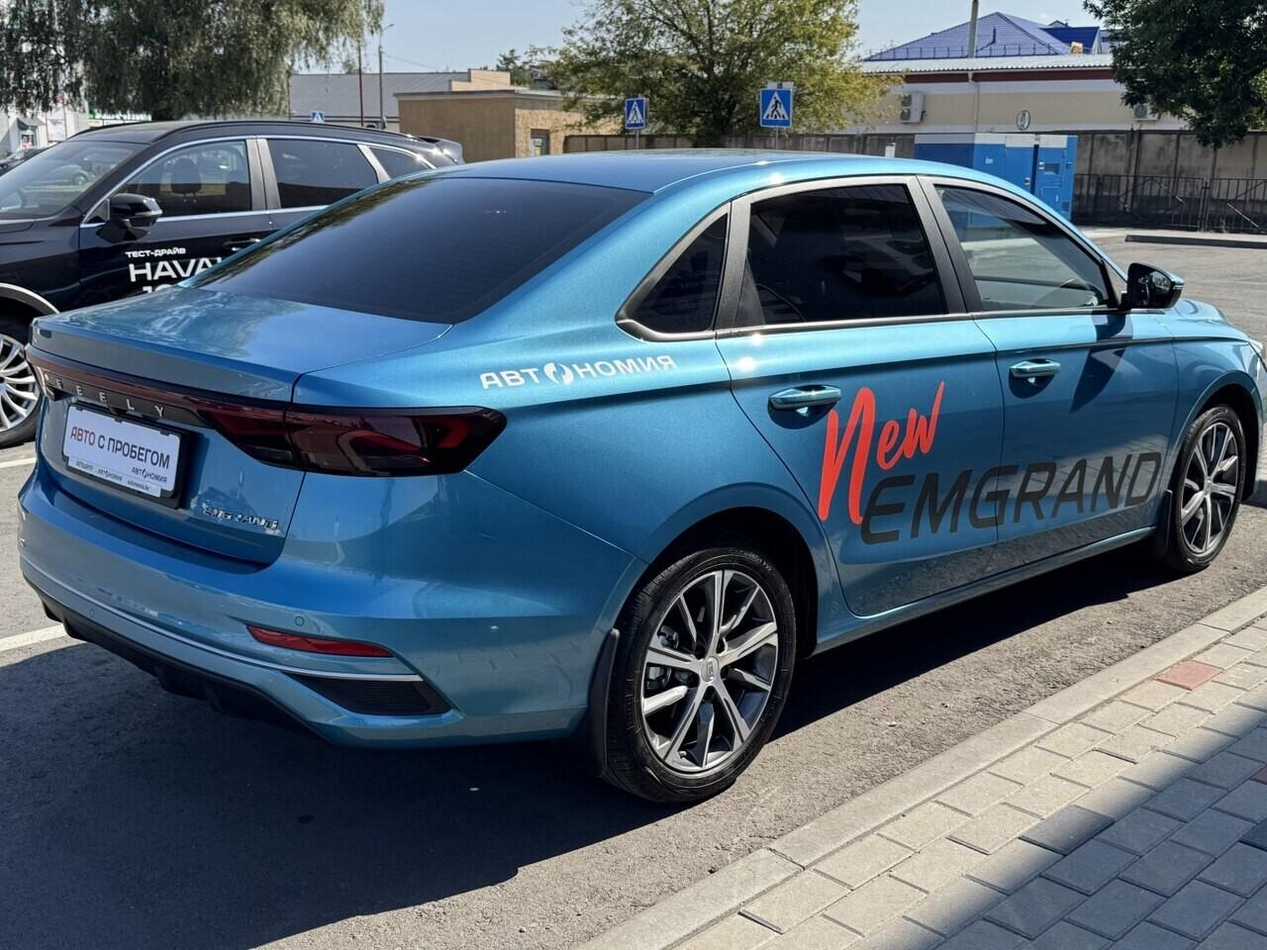Emgrand_2021: (10, 145, 1267, 804)
